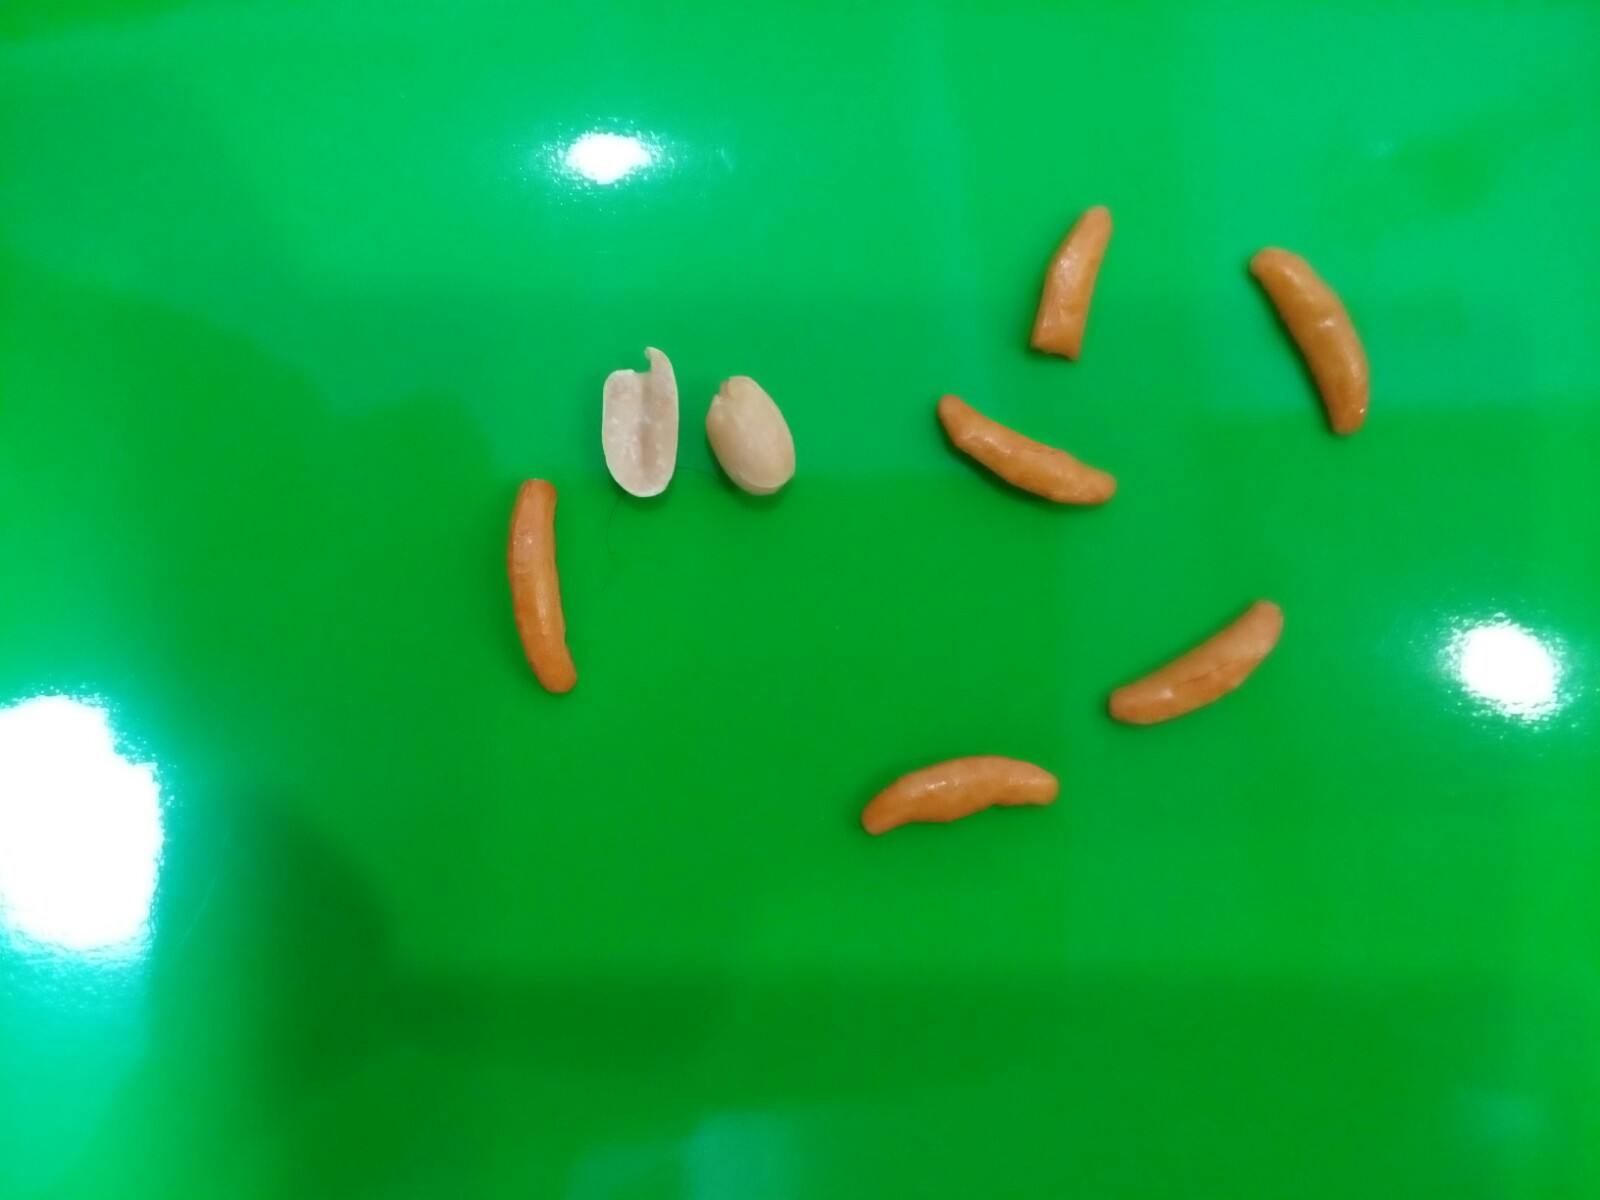peanut: (591, 339, 689, 509), (706, 366, 797, 508)
